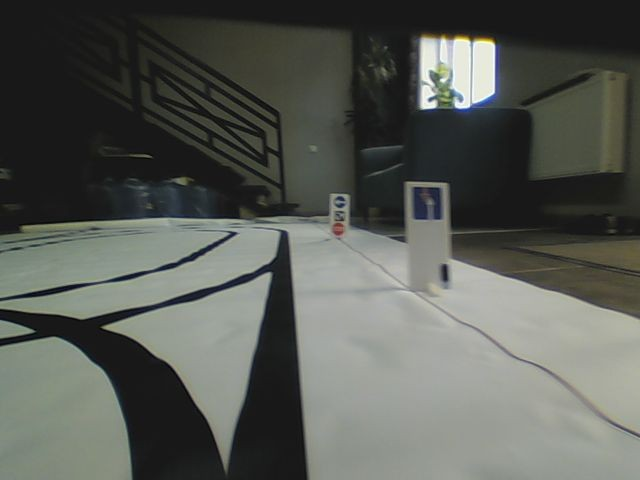Stop: (331, 223, 345, 236)
priority_movement: (410, 183, 445, 224)
